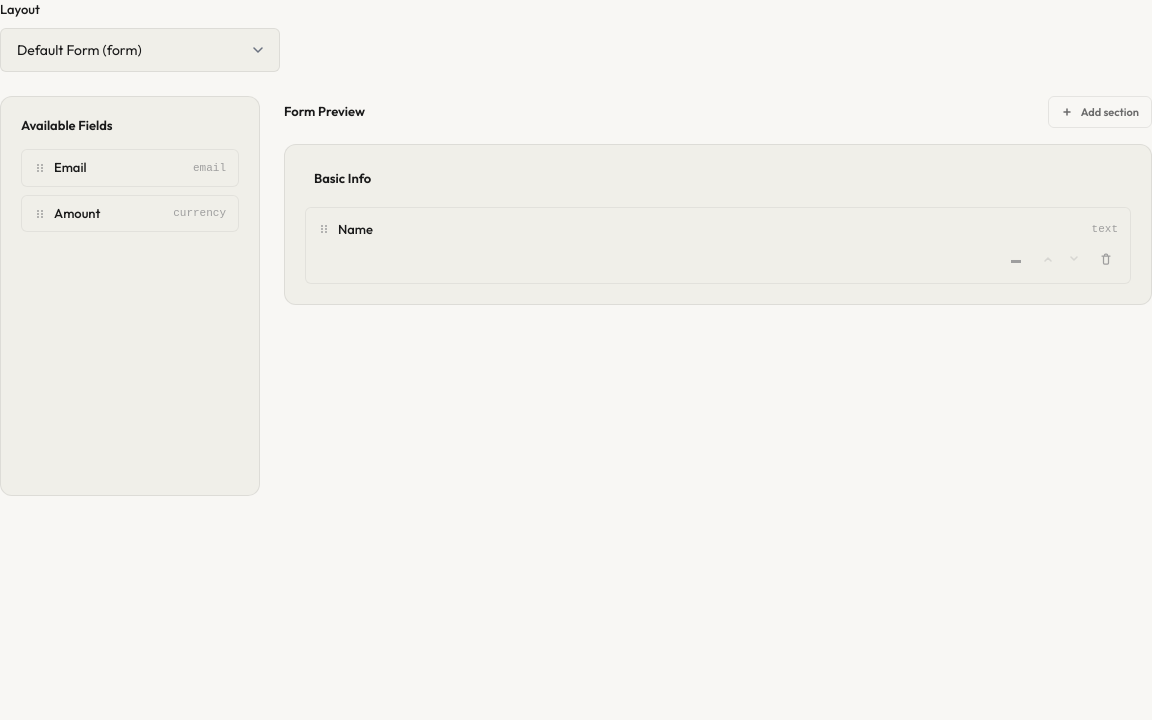
Test: LayoutBuilderTab › opens create modal when "+ Create new layout" is selected
Select "+ Create new layout" in the dropdown labelled "Layout" at (140,50), box [0,28,280,72]
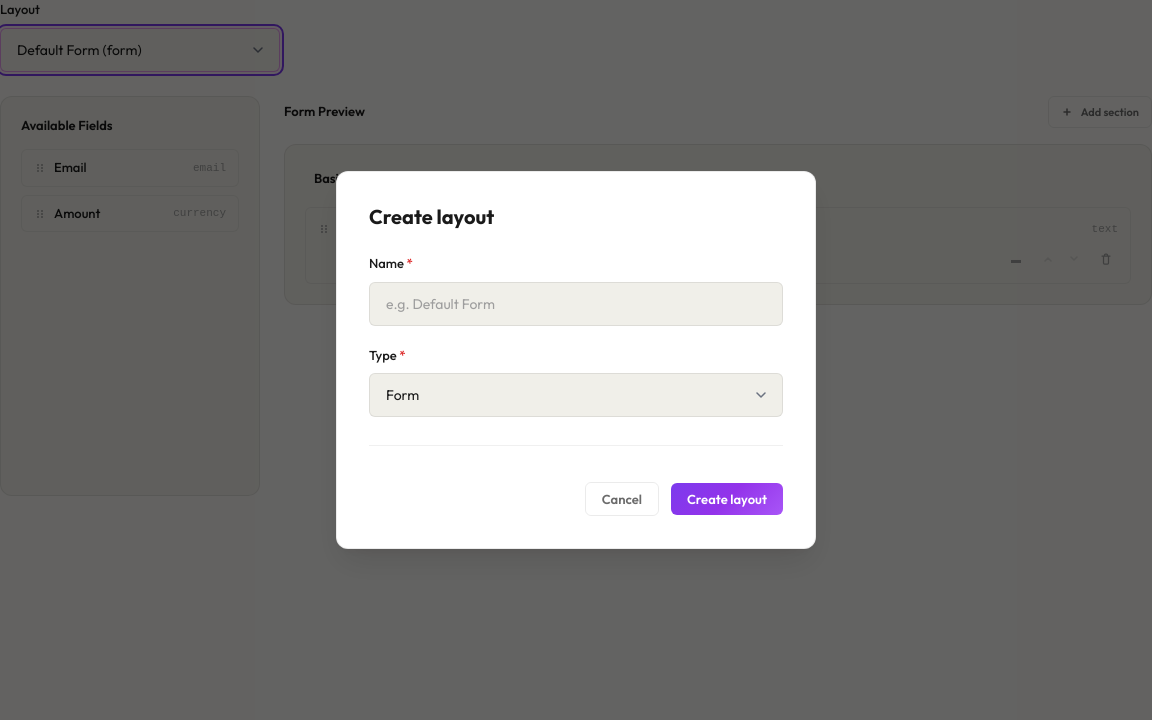
Now the dialog "Create layout" is shown
